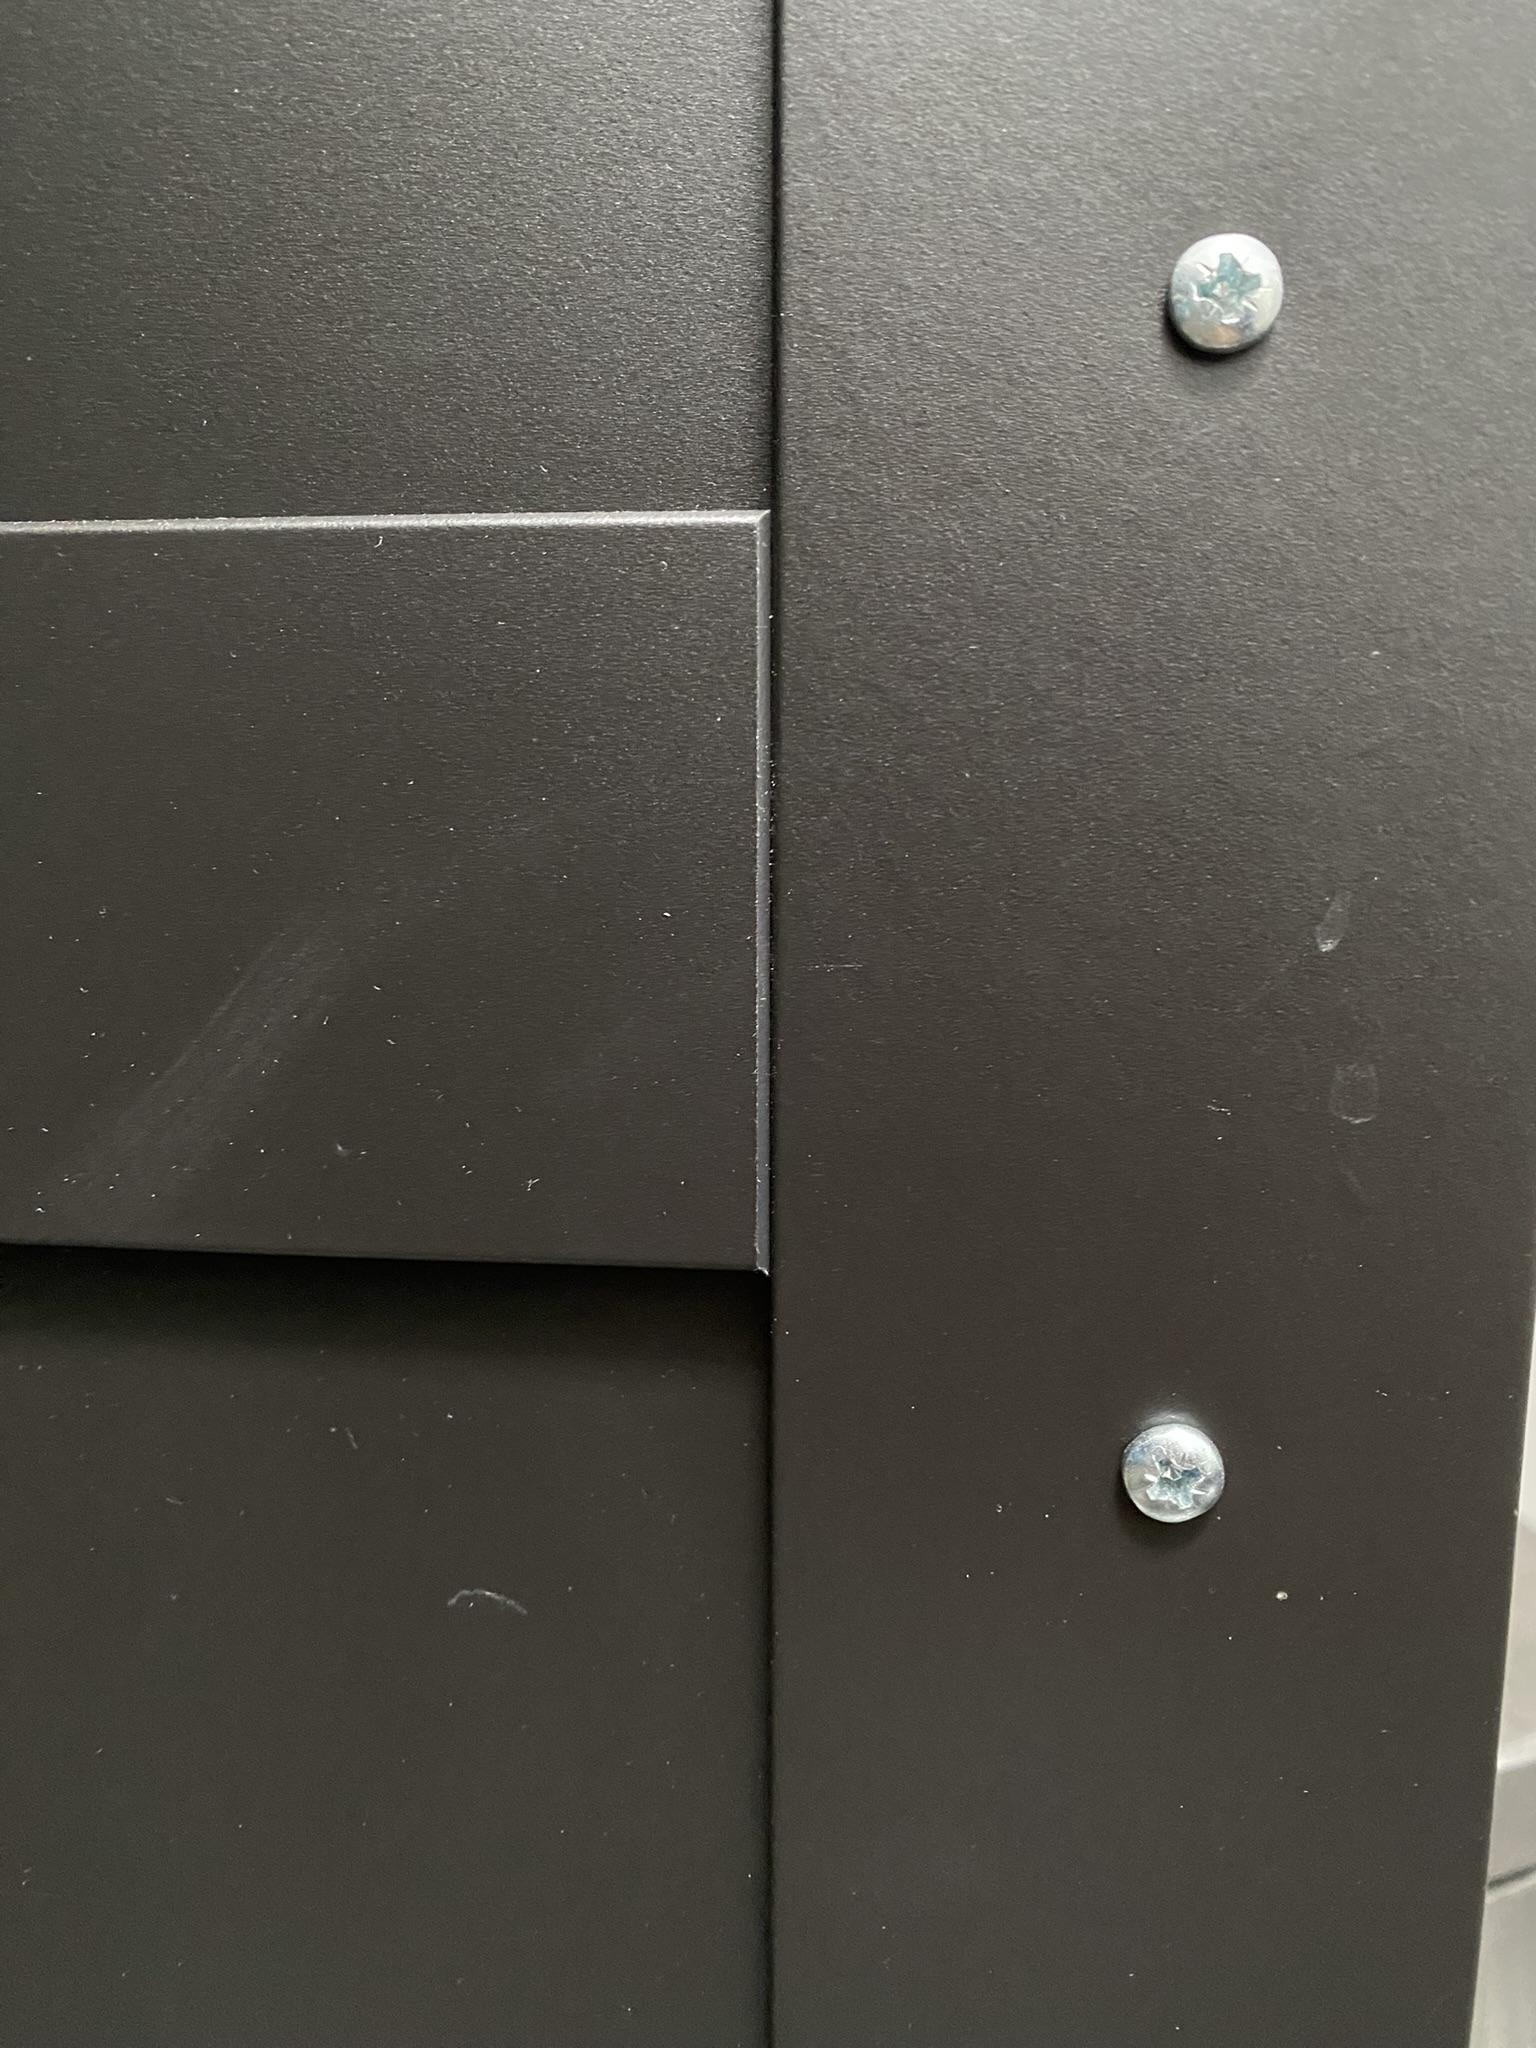PH: (1168, 232, 1286, 358), (1120, 1422, 1226, 1529)
